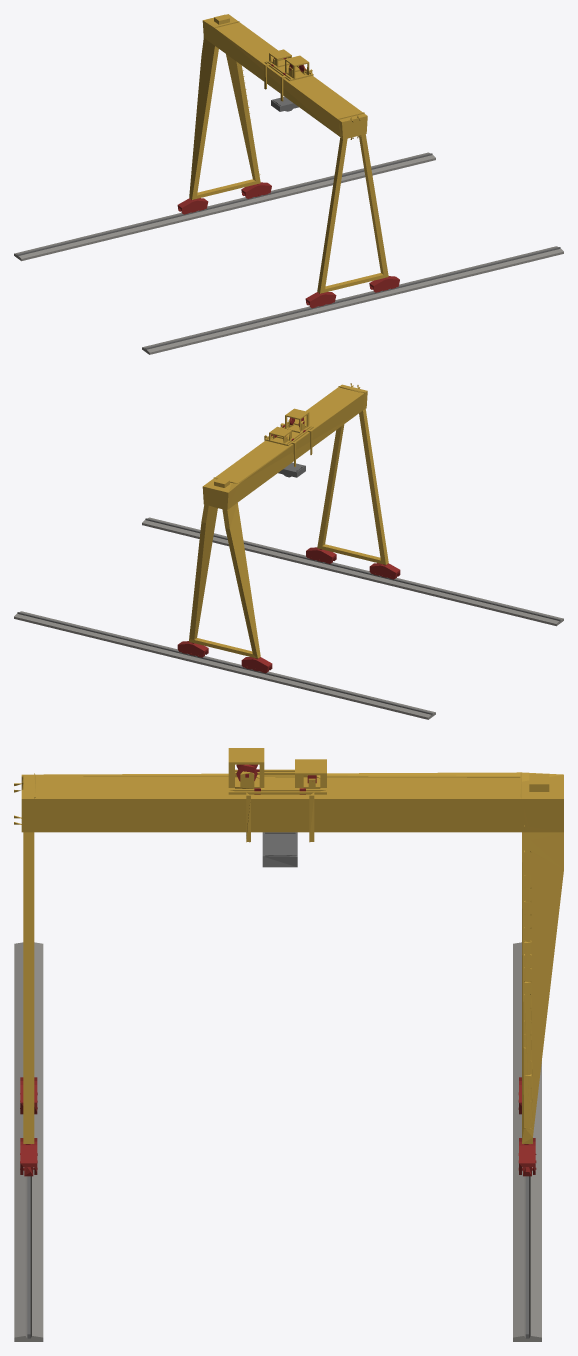
Rendered from gantry-crane.zfix-v1.lod2.glb.
3 views of the same model, one above another, from view 1: azimuth 30°, elevation 25°; view 2: azimuth 150°, elevation 25°; view 3: azimuth 270°, elevation 25° (orthographic). The views are drawn at different scales.
Visible parts, largest first — view 1: crane_yellow_metal_0; view 2: crane_yellow_metal_0; view 3: crane_yellow_metal_0.
Part boxes in pixels (box(x1,y1,x2,y2)): crane_yellow_metal_0: box(14, 14, 563, 354); crane_yellow_metal_0: box(14, 383, 563, 719); crane_yellow_metal_0: box(14, 748, 563, 1341).
Bounding box in the file's own units: 25 × 11.53 × 14.75.
